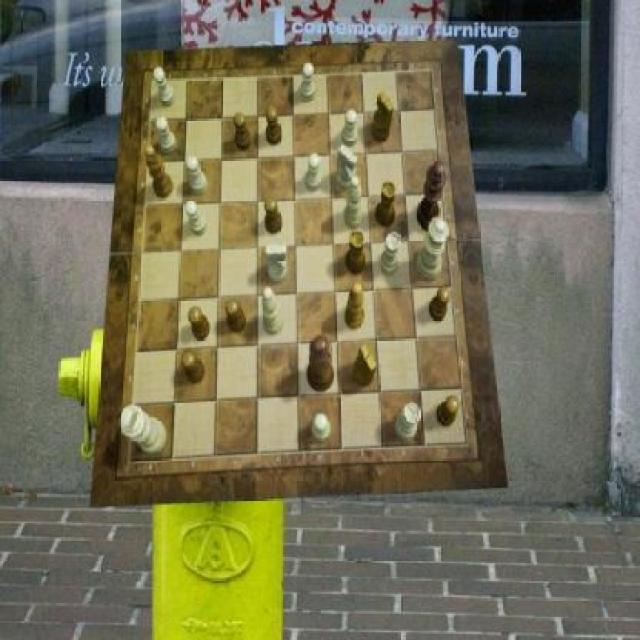bishop: (144, 144, 174, 198), (346, 283, 366, 329)
black-bishop: (417, 160, 447, 232)
black-king: (371, 90, 394, 142), (352, 345, 376, 387)
black-knight: (182, 352, 206, 385), (429, 288, 452, 322), (189, 306, 210, 341), (437, 397, 460, 428), (226, 298, 246, 332), (234, 114, 251, 152), (266, 106, 282, 145), (265, 198, 282, 234)
black-pawn: (308, 335, 335, 393)
black-queen: (344, 230, 366, 274), (376, 181, 396, 227)
black-rook: (261, 289, 284, 337), (345, 175, 362, 230)
white-bishop: (120, 406, 167, 456)
white-king: (335, 144, 358, 190), (266, 245, 289, 283)
white-knight: (186, 157, 209, 195), (153, 68, 174, 108), (156, 117, 177, 155), (186, 200, 207, 236), (300, 63, 316, 103), (342, 109, 358, 147), (304, 154, 320, 191), (313, 414, 332, 441)
white-pawn: (417, 217, 451, 279)
white-queen: (378, 231, 401, 276), (396, 403, 422, 441)
